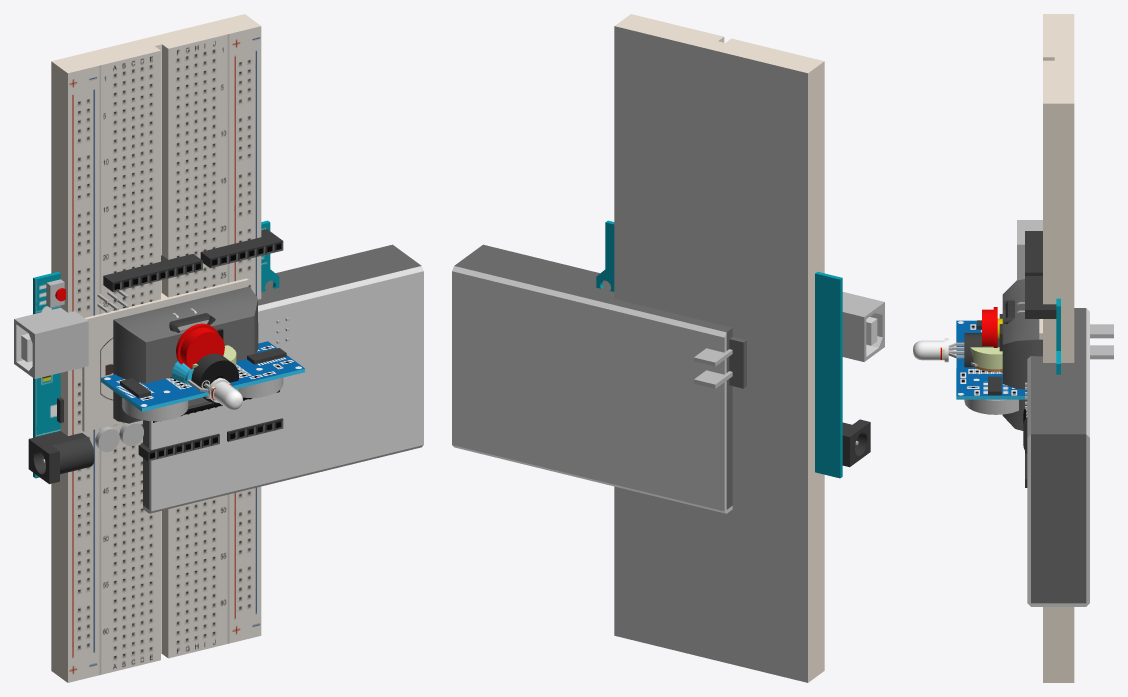
File: crk_simulador_interfaz_components.gltf
3 renders of one model, left to right at view 1: azimuth 30°, elevation 25°; view 2: azimuth 150°, elevation 25°; view 3: azimuth 270°, elevation 25°, orthographic. The views are drawn at different scales.
Visible parts, largest first — view 1: protoboard, powerbank, arduino, energyadapter, ultrasonic, accontact, pushbutton, buzzer, rgb; view 2: protoboard, powerbank, arduino, energyadapter; view 3: powerbank, protoboard, energyadapter, arduino, ultrasonic, pushbutton, rgb, preset, buzzer.
Boxes of the visible parts, box(x1,y1,x2,y2) form: protoboard: box(51, 14, 261, 682); powerbank: box(143, 244, 423, 513); arduino: box(14, 220, 289, 484); energyadapter: box(113, 286, 258, 423); ultrasonic: box(100, 341, 304, 421); accontact: box(82, 278, 248, 431); pushbutton: box(169, 308, 224, 369); buzzer: box(191, 353, 238, 402); rgb: box(185, 378, 242, 410); protoboard: box(614, 14, 824, 682); powerbank: box(452, 244, 732, 513); arduino: box(596, 220, 884, 478); energyadapter: box(694, 337, 746, 388); powerbank: box(1027, 308, 1089, 606); protoboard: box(1043, 14, 1074, 682); energyadapter: box(1002, 279, 1113, 430); arduino: box(1017, 220, 1060, 487); ultrasonic: box(956, 320, 1027, 414); pushbutton: box(982, 300, 1024, 347); rgb: box(913, 338, 964, 362); preset: box(970, 347, 1002, 371); buzzer: box(964, 333, 999, 367).
Size of the model in its own units: 11 by 16.25 by 5.1.
Materials: 51 (15 with a texture image).
